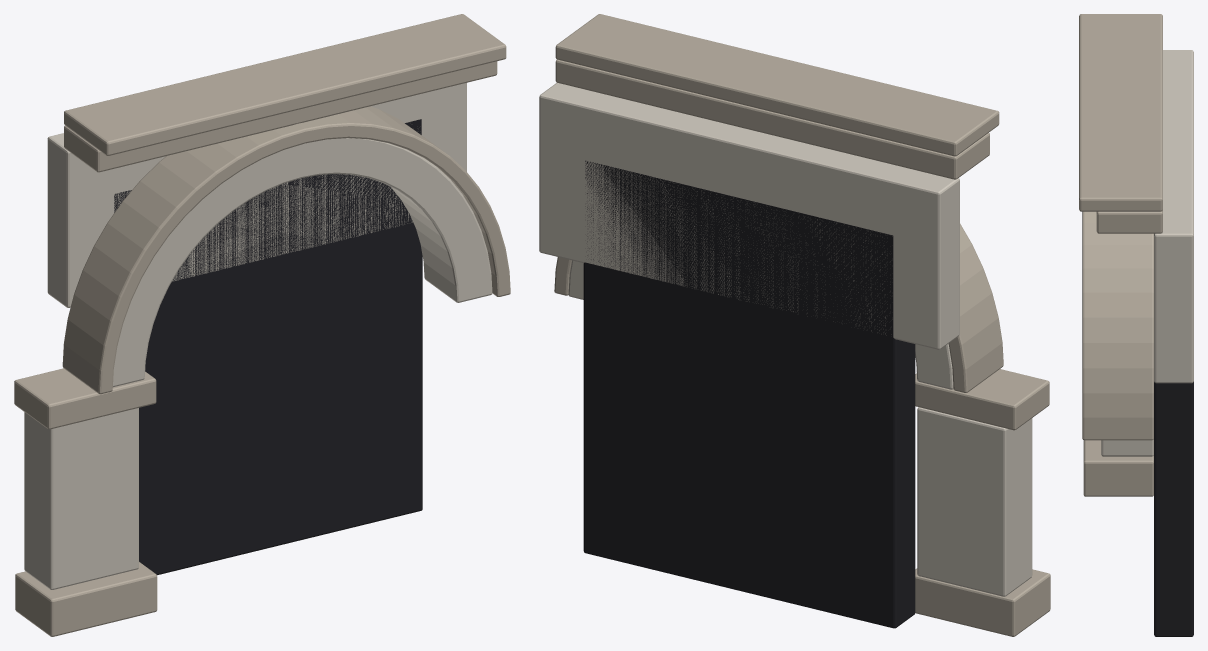
The model's file is arcade_bay.glb.
3 views of the same model, side by side, from view 1: azimuth 30°, elevation 25°; view 2: azimuth 150°, elevation 25°; view 3: azimuth 270°, elevation 25° (orthographic). The views are drawn at different scales.
Visible parts, largest first — view 1: Bay_BlindPanel, Bay_Archivolt, Bay_Corona, Bay_Spandrel, Bay_Arch, Bay_PierShaft, Bay_StringCourse, Bay_PierPlinth, Bay_PierCapital; view 2: Bay_BlindPanel, Bay_Spandrel, Bay_Corona, Bay_PierShaft, Bay_StringCourse, Bay_Archivolt, Bay_PierPlinth, Bay_PierCapital, Bay_Arch; view 3: Bay_Corona, Bay_Archivolt, Bay_Spandrel, Bay_BlindPanel, Bay_PierPlinth, Bay_StringCourse, Bay_PierShaft.
Boxes of the visible parts, x1=… form: Bay_BlindPanel: x1=114, y1=119, x2=422, y2=575; Bay_Archivolt: x1=62, y1=106, x2=510, y2=394; Bay_Corona: x1=64, y1=14, x2=506, y2=155; Bay_Spandrel: x1=47, y1=83, x2=466, y2=307; Bay_Arch: x1=113, y1=138, x2=492, y2=387; Bay_PierShaft: x1=24, y1=408, x2=138, y2=589; Bay_StringCourse: x1=64, y1=61, x2=497, y2=172; Bay_PierPlinth: x1=15, y1=562, x2=157, y2=636; Bay_PierCapital: x1=14, y1=368, x2=156, y2=429; Bay_BlindPanel: x1=583, y1=160, x2=915, y2=628; Bay_Spandrel: x1=539, y1=82, x2=959, y2=349; Bay_Corona: x1=555, y1=14, x2=999, y2=156; Bay_PierShaft: x1=917, y1=407, x2=1032, y2=596; Bay_StringCourse: x1=555, y1=59, x2=989, y2=179; Bay_Archivolt: x1=554, y1=223, x2=1003, y2=392; Bay_PierPlinth: x1=915, y1=568, x2=1050, y2=636; Bay_PierCapital: x1=915, y1=369, x2=1049, y2=430; Bay_Arch: x1=568, y1=260, x2=953, y2=389; Bay_Corona: x1=1079, y1=14, x2=1162, y2=211; Bay_Archivolt: x1=1082, y1=211, x2=1153, y2=440; Bay_Spandrel: x1=1154, y1=50, x2=1193, y2=383; Bay_BlindPanel: x1=1154, y1=381, x2=1193, y2=636; Bay_PierPlinth: x1=1083, y1=440, x2=1153, y2=496; Bay_StringCourse: x1=1096, y1=210, x2=1162, y2=233; Bay_PierShaft: x1=1101, y1=439, x2=1153, y2=456.
Bounding box in the file's own units: 11.44 × 11.5 × 2.6.
